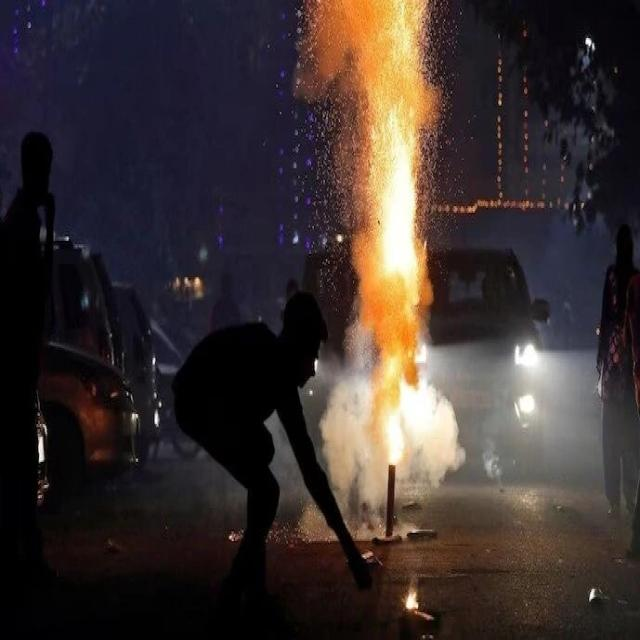fire: (294, 0, 453, 165), (351, 166, 433, 386), (364, 386, 440, 464)
